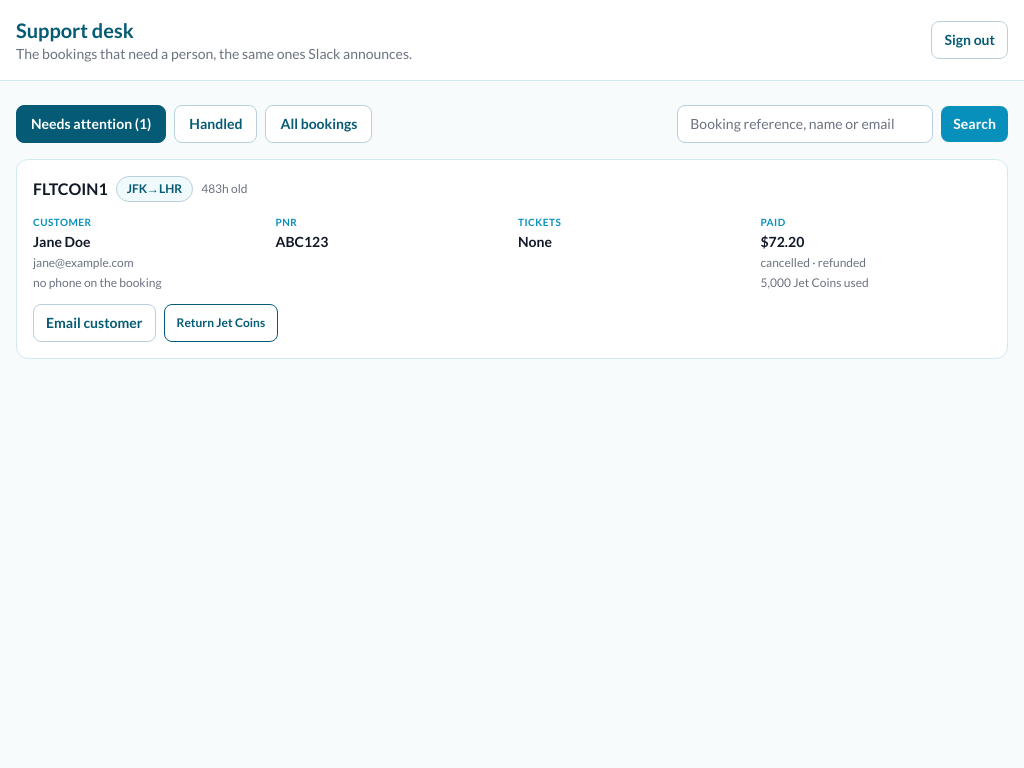
Scenario: Return Jet Coins › does not send a number of coins that is not at least one
The width and height of the screenshot is (1024, 768).
Click the button "Return Jet Coins": (221, 323) [164,304,278,342]
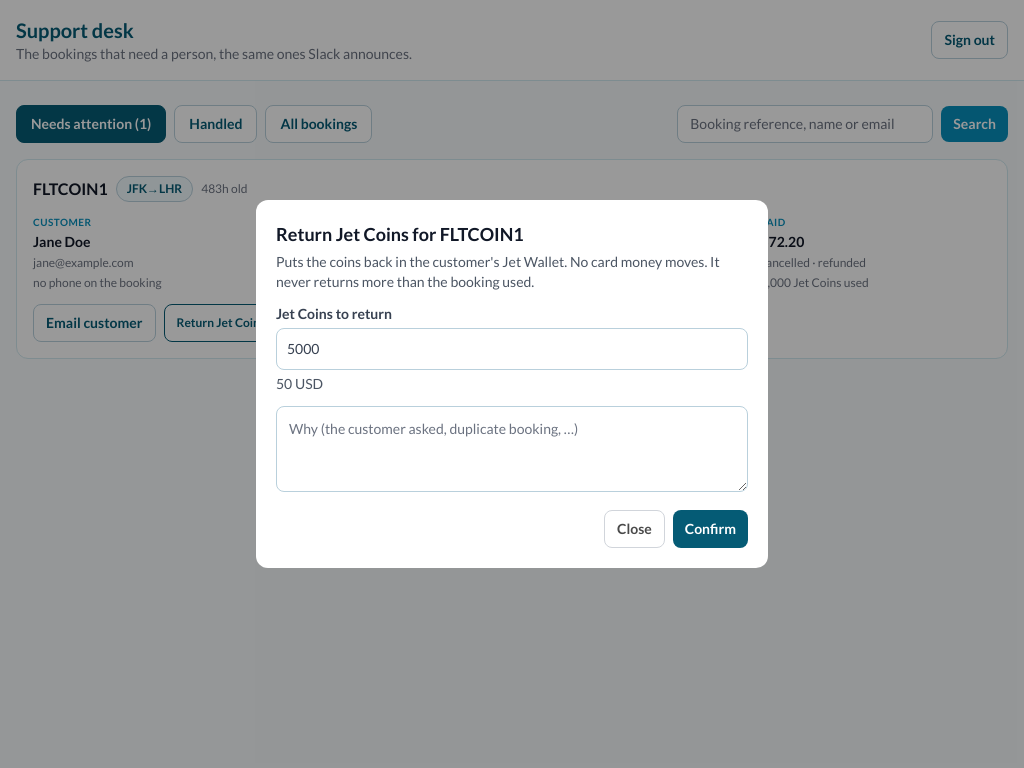
Replace the text in the number field labelled "Jet Coins to return" with "0": (512, 349) [276,328,748,370]
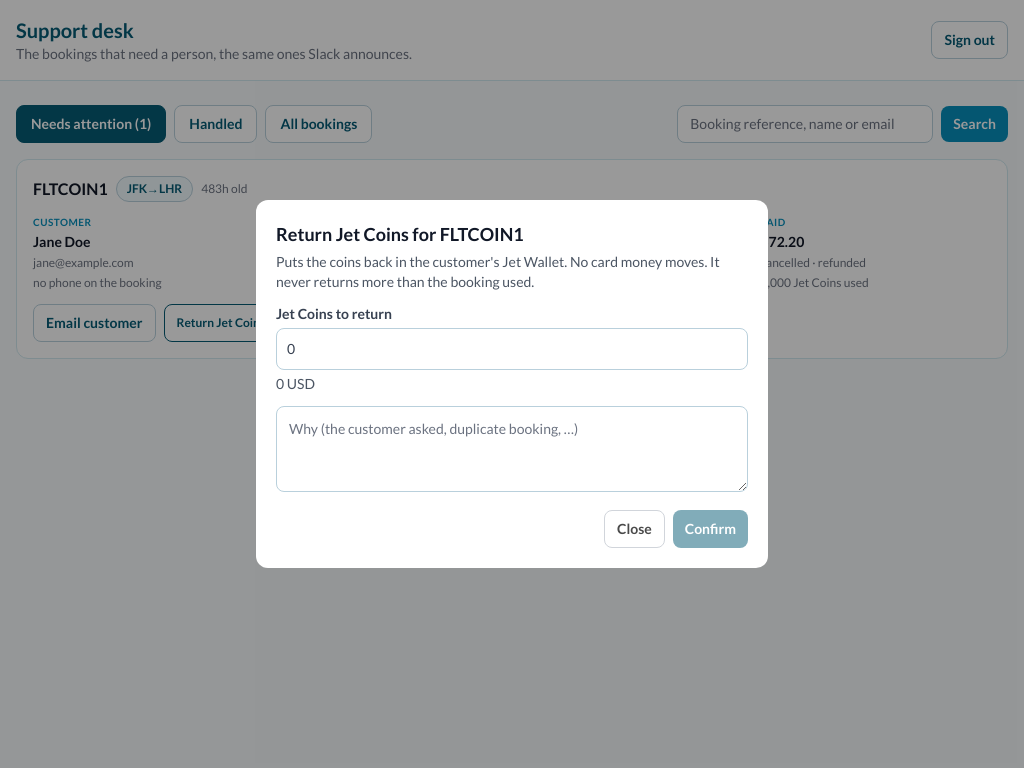
Result: the button "Confirm" is disabled at [673,510,748,548]
